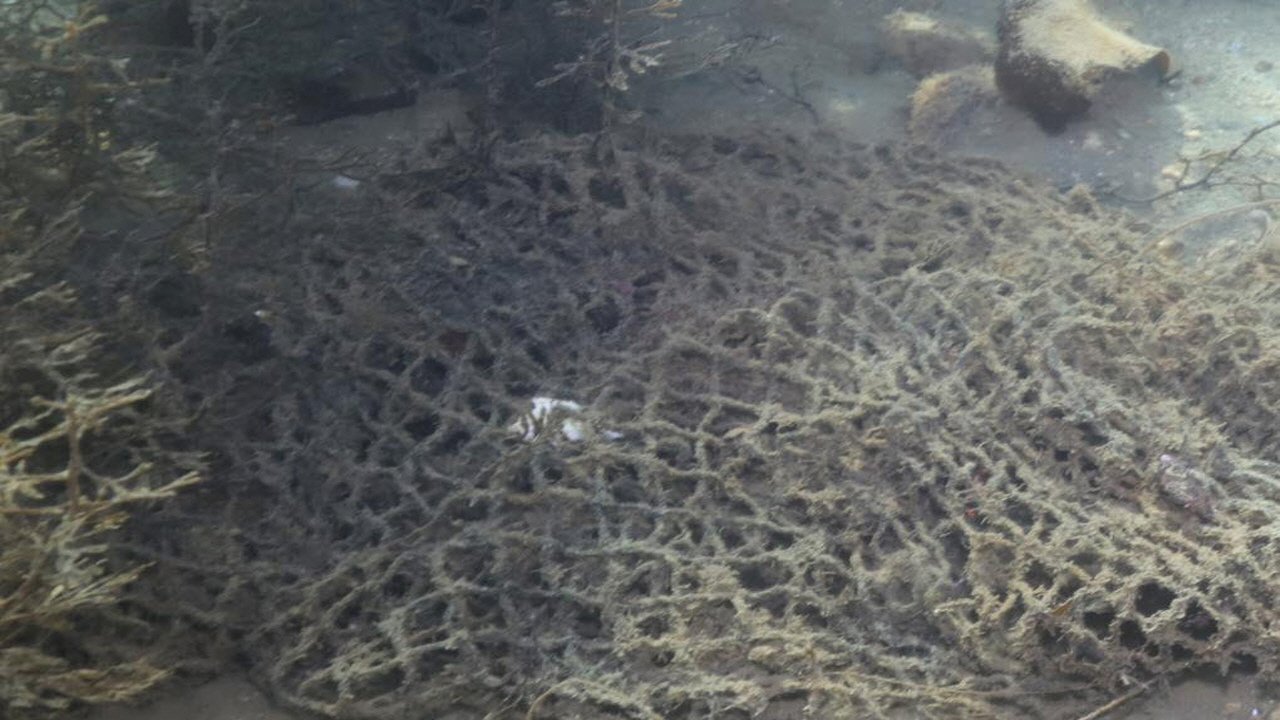fish net: (127, 127, 1280, 720)
